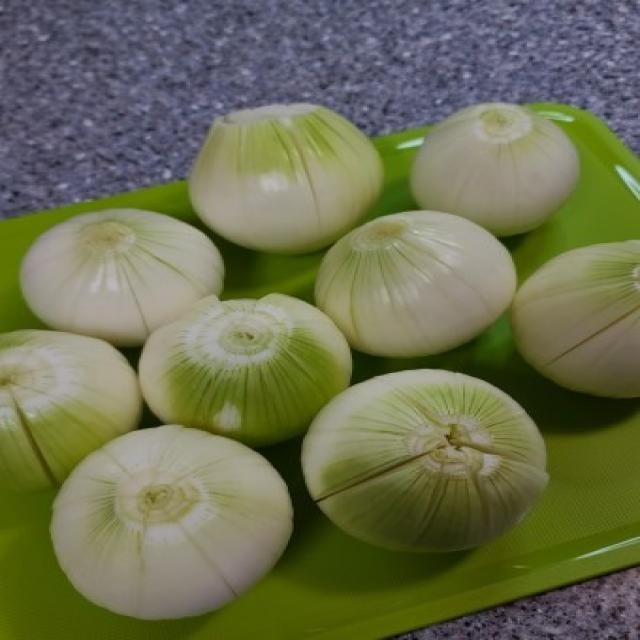Onion: (41, 434, 306, 611), (322, 374, 596, 542), (16, 200, 232, 346), (0, 314, 166, 488), (315, 208, 516, 344), (158, 294, 350, 436), (193, 92, 379, 222), (424, 91, 602, 225), (516, 226, 640, 400)
